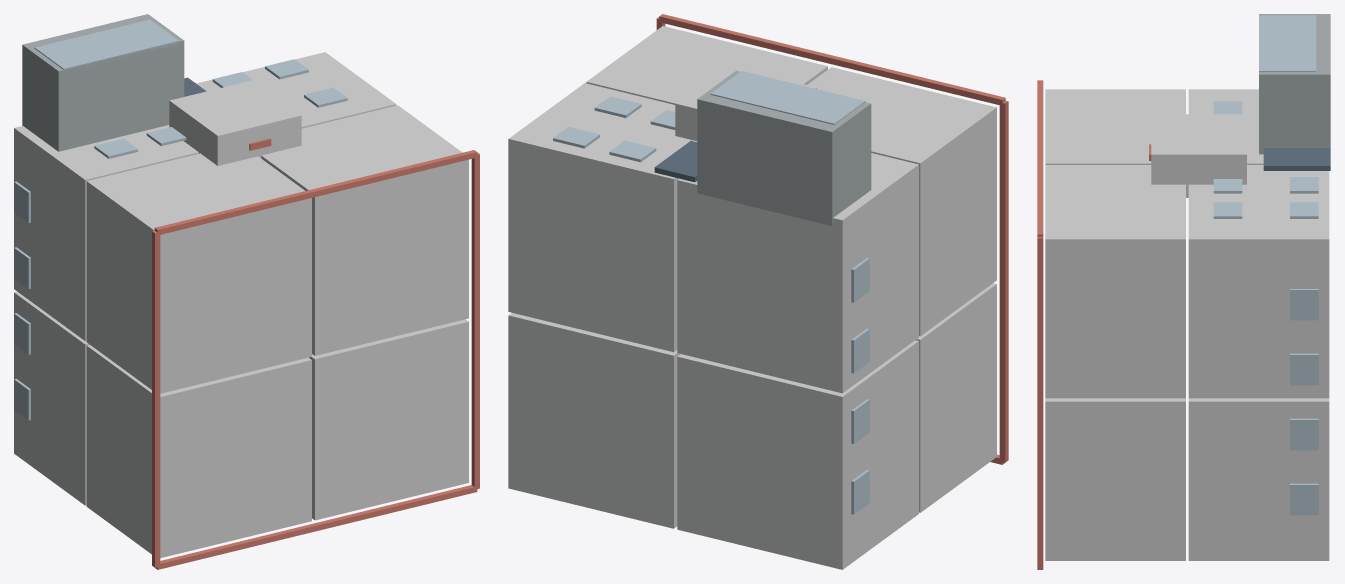
Rendered from building-hospital.glb.
3 renders of one model, left to right at view 1: azimuth 30°, elevation 25°; view 2: azimuth 150°, elevation 25°; view 3: azimuth 270°, elevation 25°, orthographic. The views are drawn at different scales.
Parts seen in each view (by area): view 1: world; view 2: world; view 3: world.
Part boxes in pixels (x1,y1,x2,y2): world: [14, 14, 479, 569]; world: [508, 14, 1008, 569]; world: [1037, 14, 1330, 569].
Bounding box in the file's own units: 15.5 × 18.9 × 12.27.
